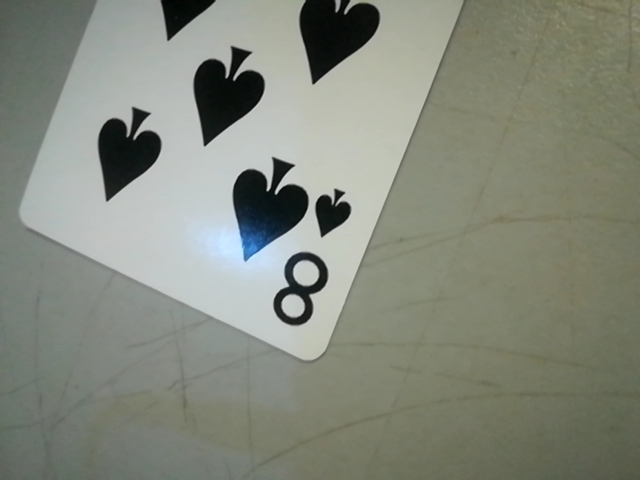ht 8: (270, 178, 354, 346)
